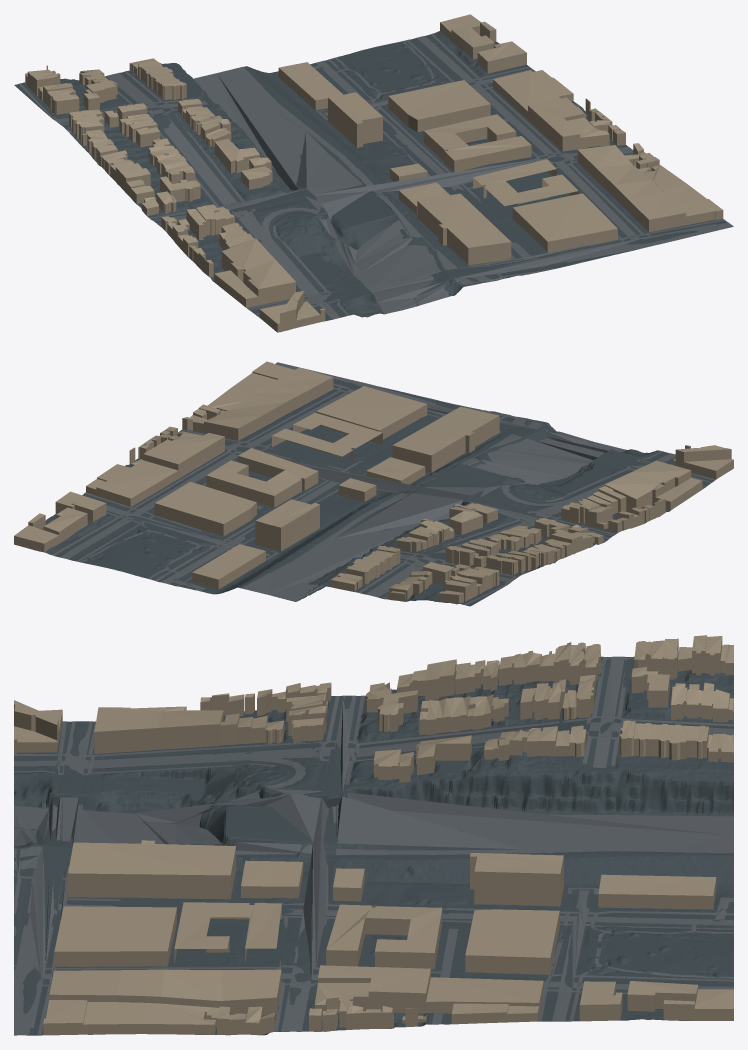
The model's file is epsg26910-1441-10884.lod0.glb.
The picture shows the model from 3 angles, top to bottom: view 1: azimuth 30°, elevation 25°; view 2: azimuth 150°, elevation 25°; view 3: azimuth 270°, elevation 25°; orthographic projection. The views are drawn at different scales.
Visible parts, largest first — view 1: epsg26910-1441-10884-lod0; view 2: epsg26910-1441-10884-lod0; view 3: epsg26910-1441-10884-lod0.
Boxes of the visible parts, left/top/right/bottom form: epsg26910-1441-10884-lod0: left=14, top=14, right=733, bottom=332; epsg26910-1441-10884-lod0: left=14, top=361, right=733, bottom=606; epsg26910-1441-10884-lod0: left=14, top=635, right=733, bottom=1035.
Bounding box in the file's own units: 384 × 62.77 × 384.
